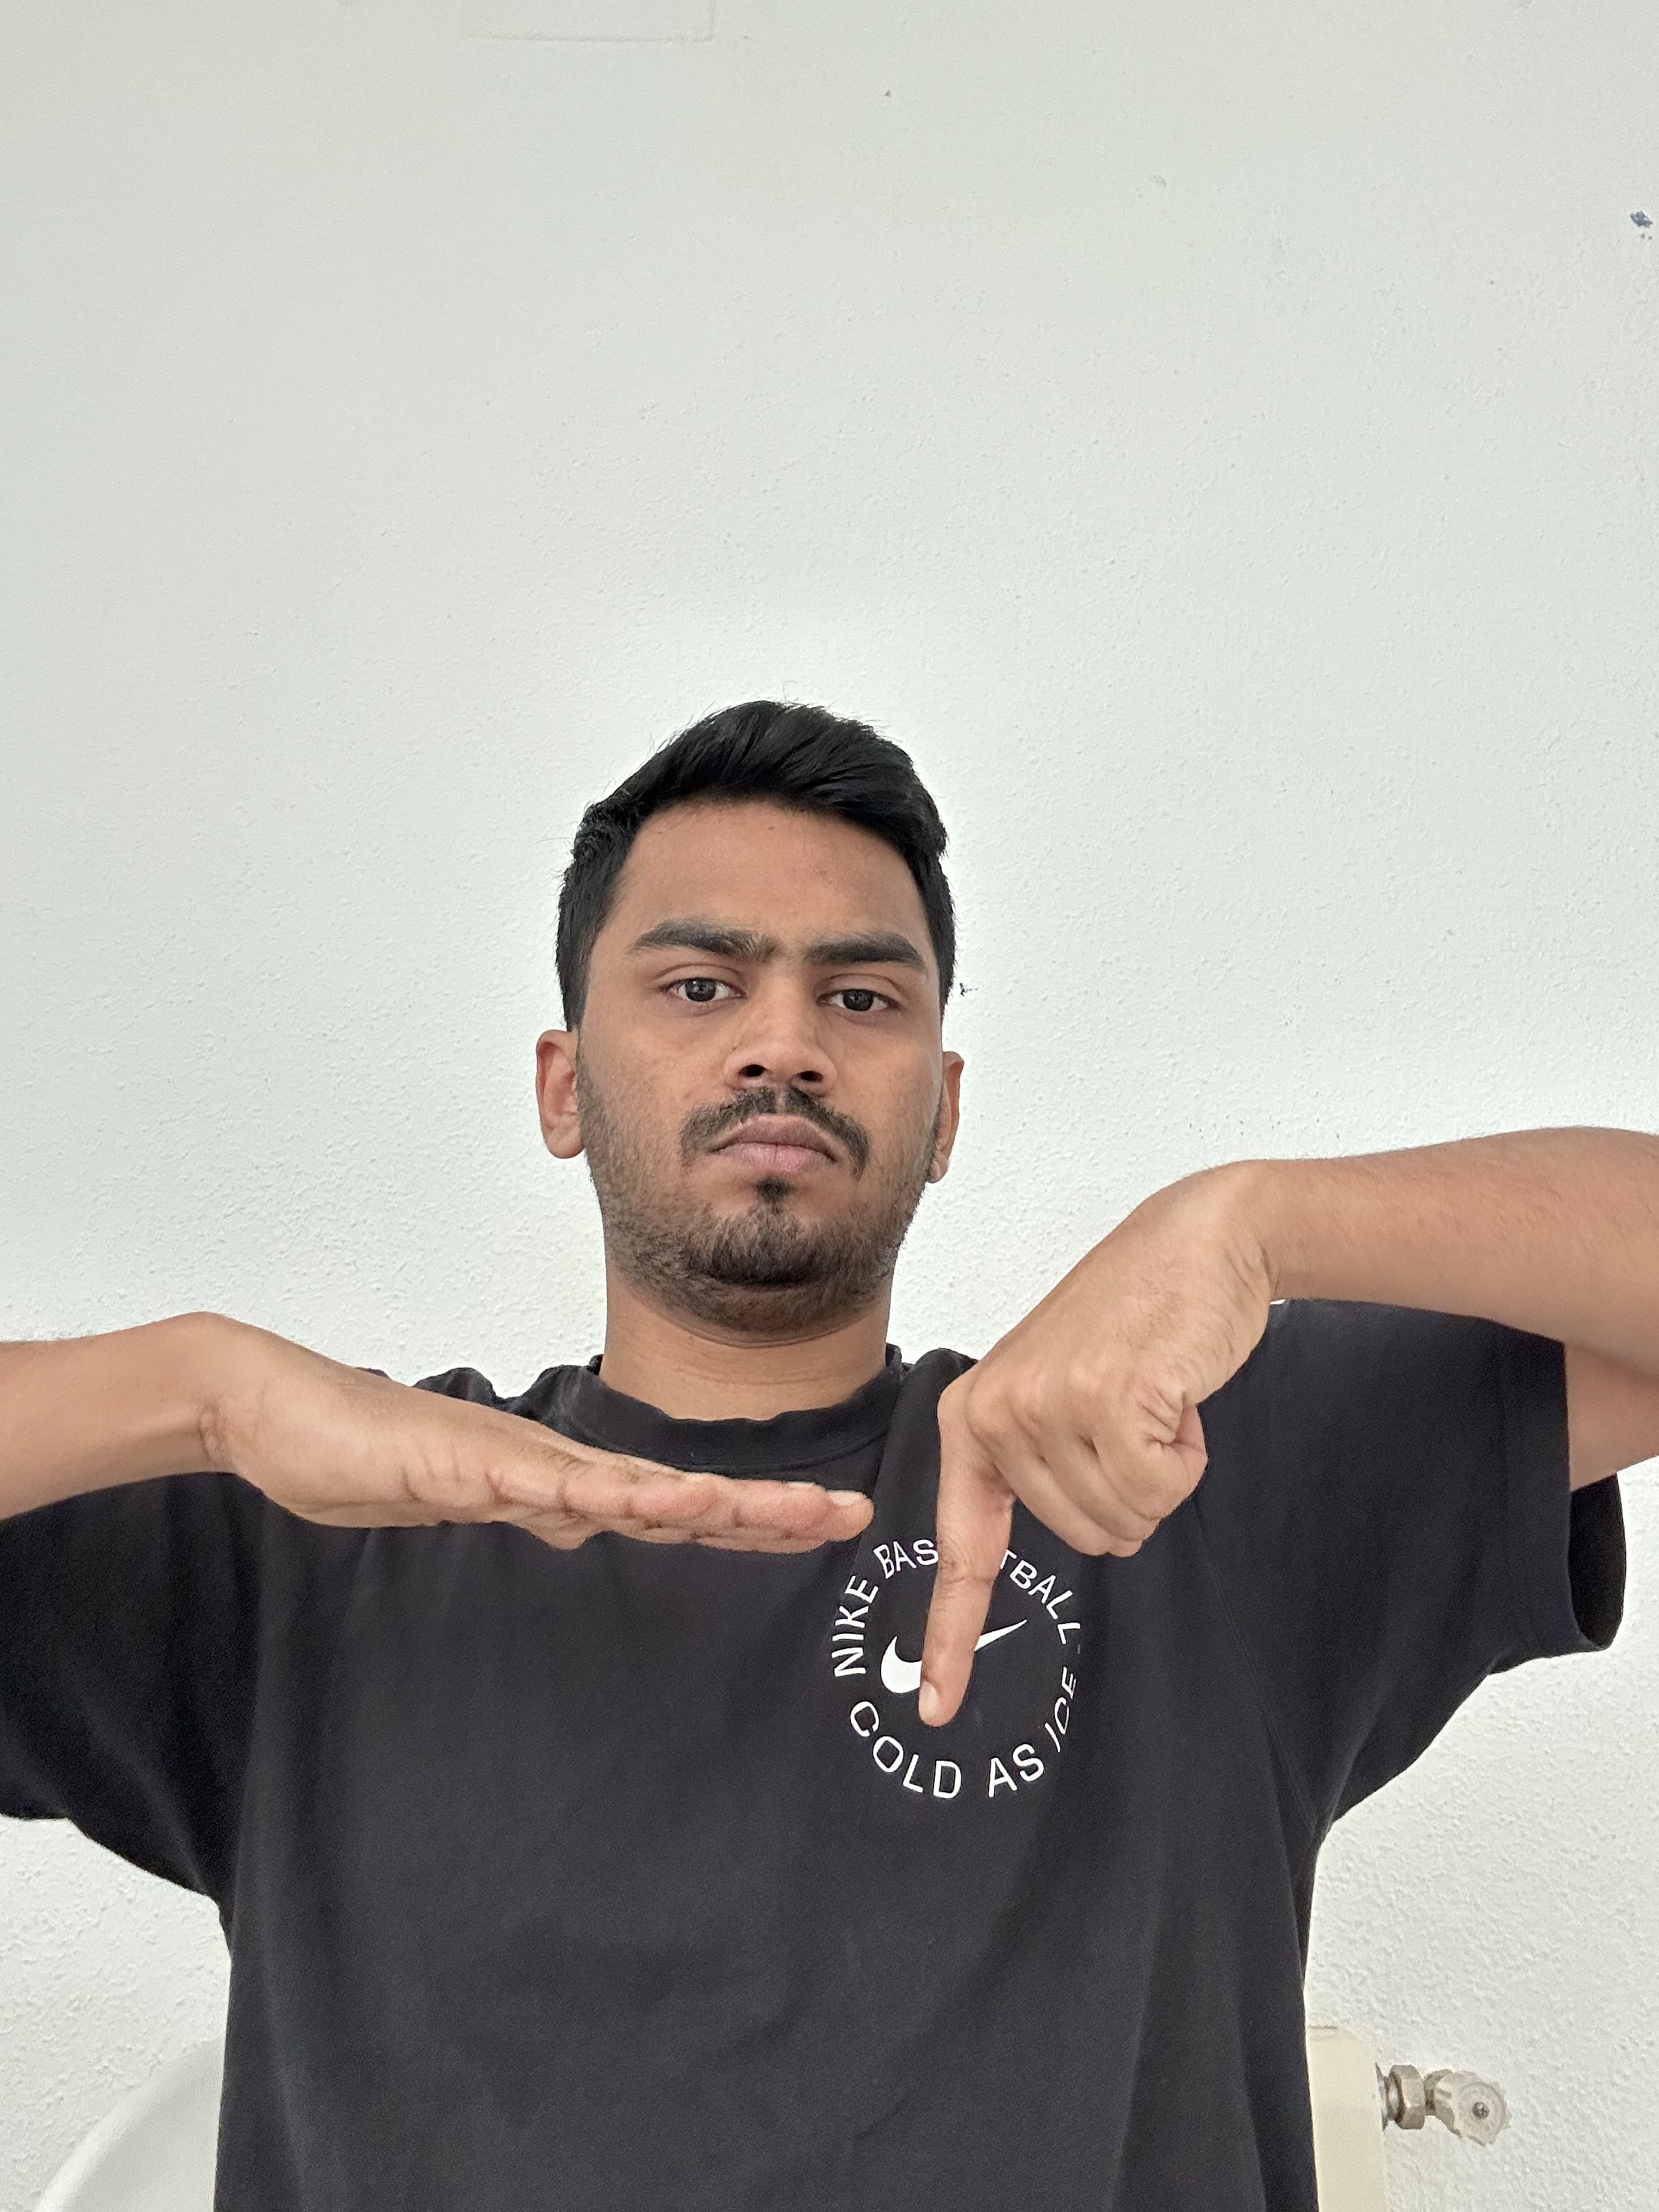deep: (5, 695, 1649, 2203)
